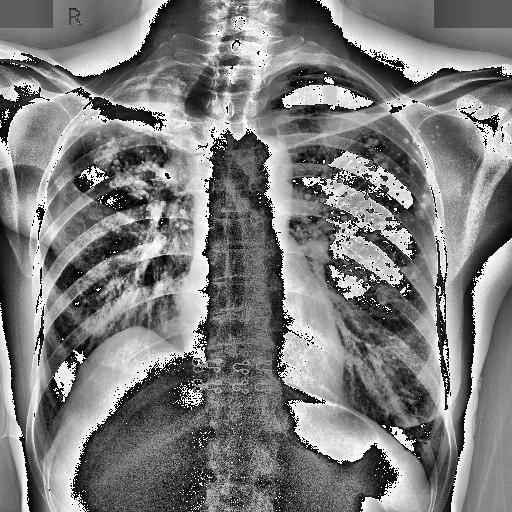1- Atelectasis: (100, 73, 186, 134)
11- Pleural thickening: (67, 65, 206, 155), (65, 65, 199, 124)
13- Pulmonary fibrosis: (81, 120, 185, 228), (109, 124, 194, 194), (360, 214, 436, 242)
2- Calcification: (304, 119, 442, 293), (294, 121, 439, 279), (80, 97, 194, 232), (81, 120, 185, 228)
8- Nodule-Mass: (290, 118, 452, 288), (60, 90, 212, 232)
9- Other lesion: (290, 118, 452, 288), (60, 90, 212, 232), (184, 56, 234, 182)
